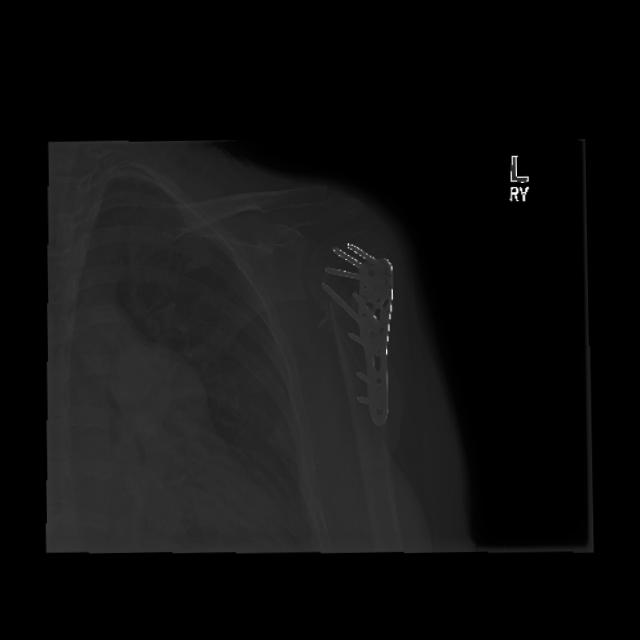forearm fracture: (313, 279, 373, 332)
